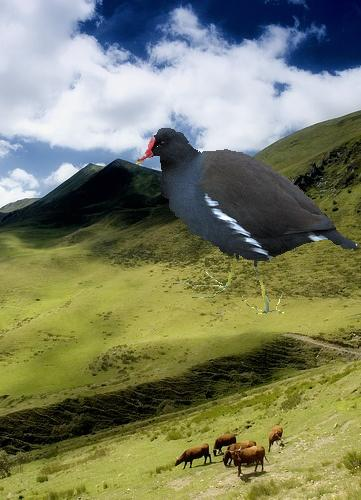tampered: (137, 129, 357, 314)
